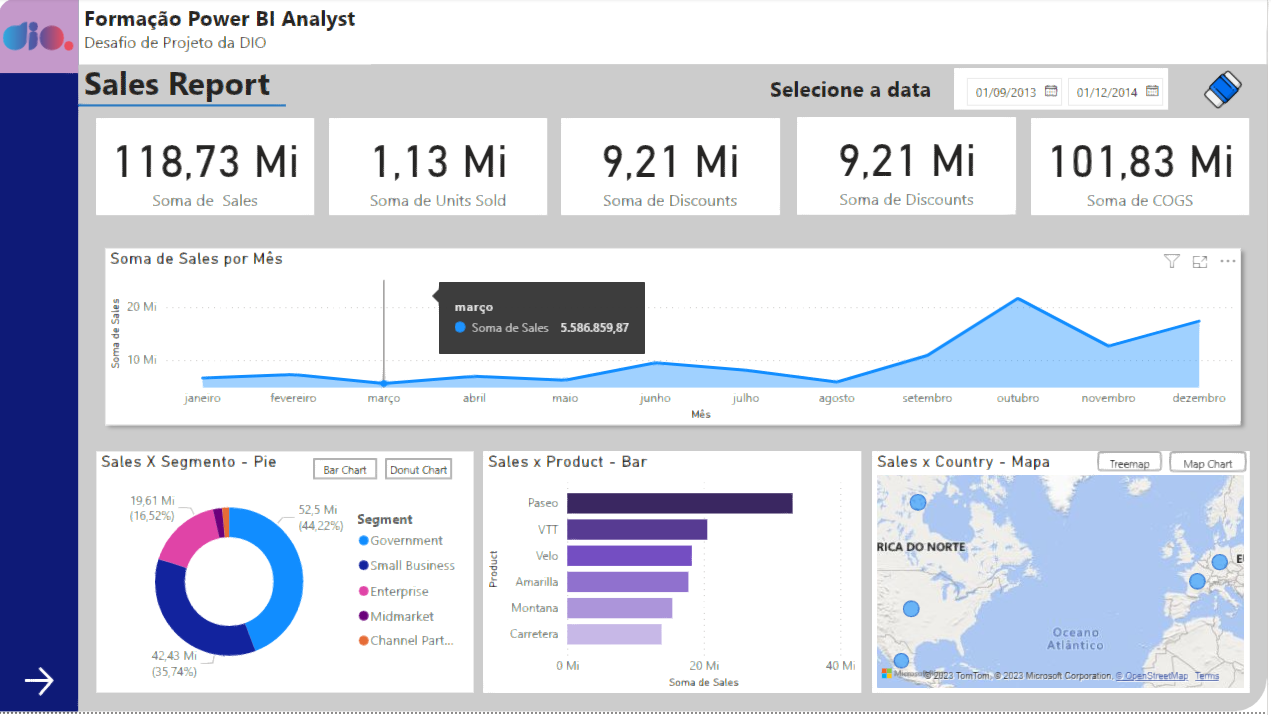

The page's visual inventory and layout, read from the dashboard file:
{"tool":"powerbi","page":{"name":"Página 1","canvas":[1280,720],"ordinal":0},"visuals":[{"type":"shape","title":"Tela cinza de fundo","box":[0,0,1280,720],"z":0},{"type":"shape","box":[0,0,81.5,720],"z":0,"group":"g3"},{"type":"slicer","fields":{"Values":["financials.Date"]},"box":[963.9,71.1,216.5,42.3],"z":0,"group":"g2"},{"type":"shape","box":[80.6,95.8,209.6,25.1],"z":0,"group":"g4"},{"type":"shape","box":[98.5,120.9,220.3,97.6],"z":0,"group":"g1"},{"type":"treemap","title":"Sales x Country - Treemap","fields":{"Group":["financials.Country"],"Values":["Sum(financials. Sales)"]},"box":[881.4,456.4,380.9,244.4],"z":0,"group":"g5"},{"type":"donutChart","title":"Sales X Segmento - Pie","fields":{"Y":["Sum(financials. Sales)"],"Category":["financials.Segment"]},"box":[99.4,456.7,380.6,244.5],"z":0,"group":"g6"},{"type":"shape","box":[0,0,81.5,76.1],"z":1000,"group":"g3"},{"type":"textbox","box":[81.5,57.3,220.3,63.6],"z":1000,"group":"g4"},{"type":"textbox","box":[773.2,72.2,186.6,40.2],"z":1000,"group":"g2"},{"type":"shape","box":[334,120.9,220.3,97.6],"z":1000,"group":"g1"},{"type":"shape","box":[98.5,456.7,380.6,244.5],"z":1000},{"type":"map","title":"Sales x Country - Mapa","fields":{"Size":["Sum(financials. Sales)"],"Category":["financials.Country"]},"box":[881.4,456.7,380.4,244.3],"z":1000,"group":"g5"},{"type":"image","box":[0,0,81.5,76.1],"z":2000,"group":"g3"},{"type":"image","title":"Clear","box":[1209,67.2,52.8,51],"z":2000,"group":"g2"},{"type":"shape","box":[568.6,120.9,220.3,97.6],"z":2000,"group":"g1"},{"type":"actionButton","title":"Botão - Map","box":[1180.8,456.4,78.5,21.6],"z":2000,"group":"g5"},{"type":"shape","box":[881.2,456.7,380.6,244.5],"z":2000},{"type":"actionButton","title":"Botão - Bar","box":[318.1,463.3,64.8,21.6],"z":2000,"group":"g6"},{"type":"shape","box":[81.5,0,1198.2,67.2],"z":3000,"group":"g3"},{"type":"actionButton","box":[1209.3,67,52.6,51.5],"z":3000,"group":"g2"},{"type":"shape","box":[806,120.9,220.3,97.6],"z":3000,"group":"g1"},{"type":"actionButton","title":"Botão - Treemap","box":[1108.2,456.4,65.8,20.6],"z":3000,"group":"g5"},{"type":"shape","box":[489.9,456.7,380.6,244.5],"z":3000},{"type":"actionButton","title":"Botão - Donut","box":[390.7,463.3,67.7,21.6],"z":3000,"group":"g6"},{"type":"textbox","box":[81.5,0,293.7,67.2],"z":4000,"group":"g3"},{"type":"group","id":"g1","title":"Cartões","box":[98.5,120.9,1163.3,97.6],"z":4000},{"type":"shape","box":[1041.5,120.9,220.3,97.6],"z":4000,"group":"g1"},{"type":"shape","title":"Forma Gráfico de Linha","box":[98.5,242.7,1163.3,195.2],"z":5000},{"type":"areaChart","fields":{"Category":["financials.Date.Variation.Hierarquia de datas.Mês"],"Y":["Sum(financials. Sales)"]},"box":[108.1,251.7,1145.2,178.8],"z":6000},{"type":"card","fields":{"Values":["Sum(financials. Sales)"]},"box":[98.8,121.2,220,97.6],"z":7000},{"type":"card","fields":{"Values":["Sum(financials.Units Sold)"]},"box":[334.1,121.2,220,97.6],"z":8000},{"type":"card","fields":{"Values":["Sum(financials.COGS)"]},"box":[1042.4,121.2,220,97.6],"z":9000},{"type":"card","fields":{"Values":["Sum(financials.Discounts)"]},"box":[805.9,120,221.2,97.6],"z":10000},{"type":"card","fields":{"Values":["Sum(financials.Discounts)"]},"box":[568.2,121.2,220,97.6],"z":11000},{"type":"clusteredBarChart","title":"Sales x Product  - Bar","fields":{"Y":["Sum(financials. Sales)"],"Category":["financials.Product"]},"box":[489.7,456.7,380.4,244.3],"z":12000},{"type":"group","id":"g2","title":"Segmentação de Dados","box":[773.2,67,488.7,51.5],"z":13000},{"type":"group","id":"g3","title":"Aba lateral e Superior","box":[0,0,1279.7,720],"z":13500},{"type":"actionButton","box":[21.6,666.5,39.3,45.2],"z":14000},{"type":"group","id":"g4","title":"Sales Report","box":[80.6,57.3,221.2,63.6],"z":15000},{"type":"group","id":"g5","title":"Sales x País","box":[881.4,456.4,380.9,244.6],"z":16000},{"type":"group","id":"g6","title":"Sales x Segmento","box":[99,456.7,381,244.5],"z":17000}]}

Visuals, with their boxes in screenshot pixels (x1, y1, x2, y2), scaled from the page's 1280x720 canvas onto the 1271x715 screenshot:
"Tela cinza de fundo" shape: x1=0 y1=0 x2=1270 y2=714
shape: x1=0 y1=0 x2=81 y2=714
slicer - financials.Date: x1=957 y1=71 x2=1172 y2=113
shape: x1=80 y1=95 x2=288 y2=120
shape: x1=98 y1=120 x2=317 y2=217
"Sales x Country - Treemap" treemap: x1=875 y1=453 x2=1253 y2=696
"Sales X Segmento - Pie" donutChart: x1=99 y1=454 x2=477 y2=696
shape: x1=0 y1=0 x2=81 y2=76
textbox: x1=81 y1=57 x2=300 y2=120
textbox: x1=768 y1=72 x2=953 y2=112
shape: x1=332 y1=120 x2=550 y2=217
shape: x1=98 y1=454 x2=476 y2=696
"Sales x Country - Mapa" map: x1=875 y1=454 x2=1253 y2=696
image: x1=0 y1=0 x2=81 y2=76
"Clear" image: x1=1200 y1=67 x2=1253 y2=117
shape: x1=565 y1=120 x2=783 y2=217
"Botão - Map" actionButton: x1=1172 y1=453 x2=1250 y2=475
shape: x1=875 y1=454 x2=1253 y2=696
"Botão - Bar" actionButton: x1=316 y1=460 x2=380 y2=482
shape: x1=81 y1=0 x2=1270 y2=67
actionButton: x1=1201 y1=67 x2=1253 y2=118
shape: x1=800 y1=120 x2=1019 y2=217
"Botão - Treemap" actionButton: x1=1100 y1=453 x2=1166 y2=474
shape: x1=486 y1=454 x2=864 y2=696
"Botão - Donut" actionButton: x1=388 y1=460 x2=455 y2=482
textbox: x1=81 y1=0 x2=373 y2=67
"Cartões" group: x1=98 y1=120 x2=1253 y2=217
shape: x1=1034 y1=120 x2=1253 y2=217
"Forma Gráfico de Linha" shape: x1=98 y1=241 x2=1253 y2=435
areaChart - financials.Date.Variation.Hierarquia de datas.Mês x Sum(financials. Sales): x1=107 y1=250 x2=1244 y2=428
card - Sum(financials. Sales): x1=98 y1=120 x2=317 y2=217
card - Sum(financials.Units Sold): x1=332 y1=120 x2=550 y2=217
card - Sum(financials.COGS): x1=1035 y1=120 x2=1254 y2=217
card - Sum(financials.Discounts): x1=800 y1=119 x2=1020 y2=216
card - Sum(financials.Discounts): x1=564 y1=120 x2=783 y2=217
"Sales x Product  - Bar" clusteredBarChart: x1=486 y1=454 x2=864 y2=696
"Segmentação de Dados" group: x1=768 y1=67 x2=1253 y2=118
"Aba lateral e Superior" group: x1=0 y1=0 x2=1270 y2=714
actionButton: x1=21 y1=662 x2=60 y2=707
"Sales Report" group: x1=80 y1=57 x2=300 y2=120
"Sales x País" group: x1=875 y1=453 x2=1253 y2=696
"Sales x Segmento" group: x1=98 y1=454 x2=477 y2=696
